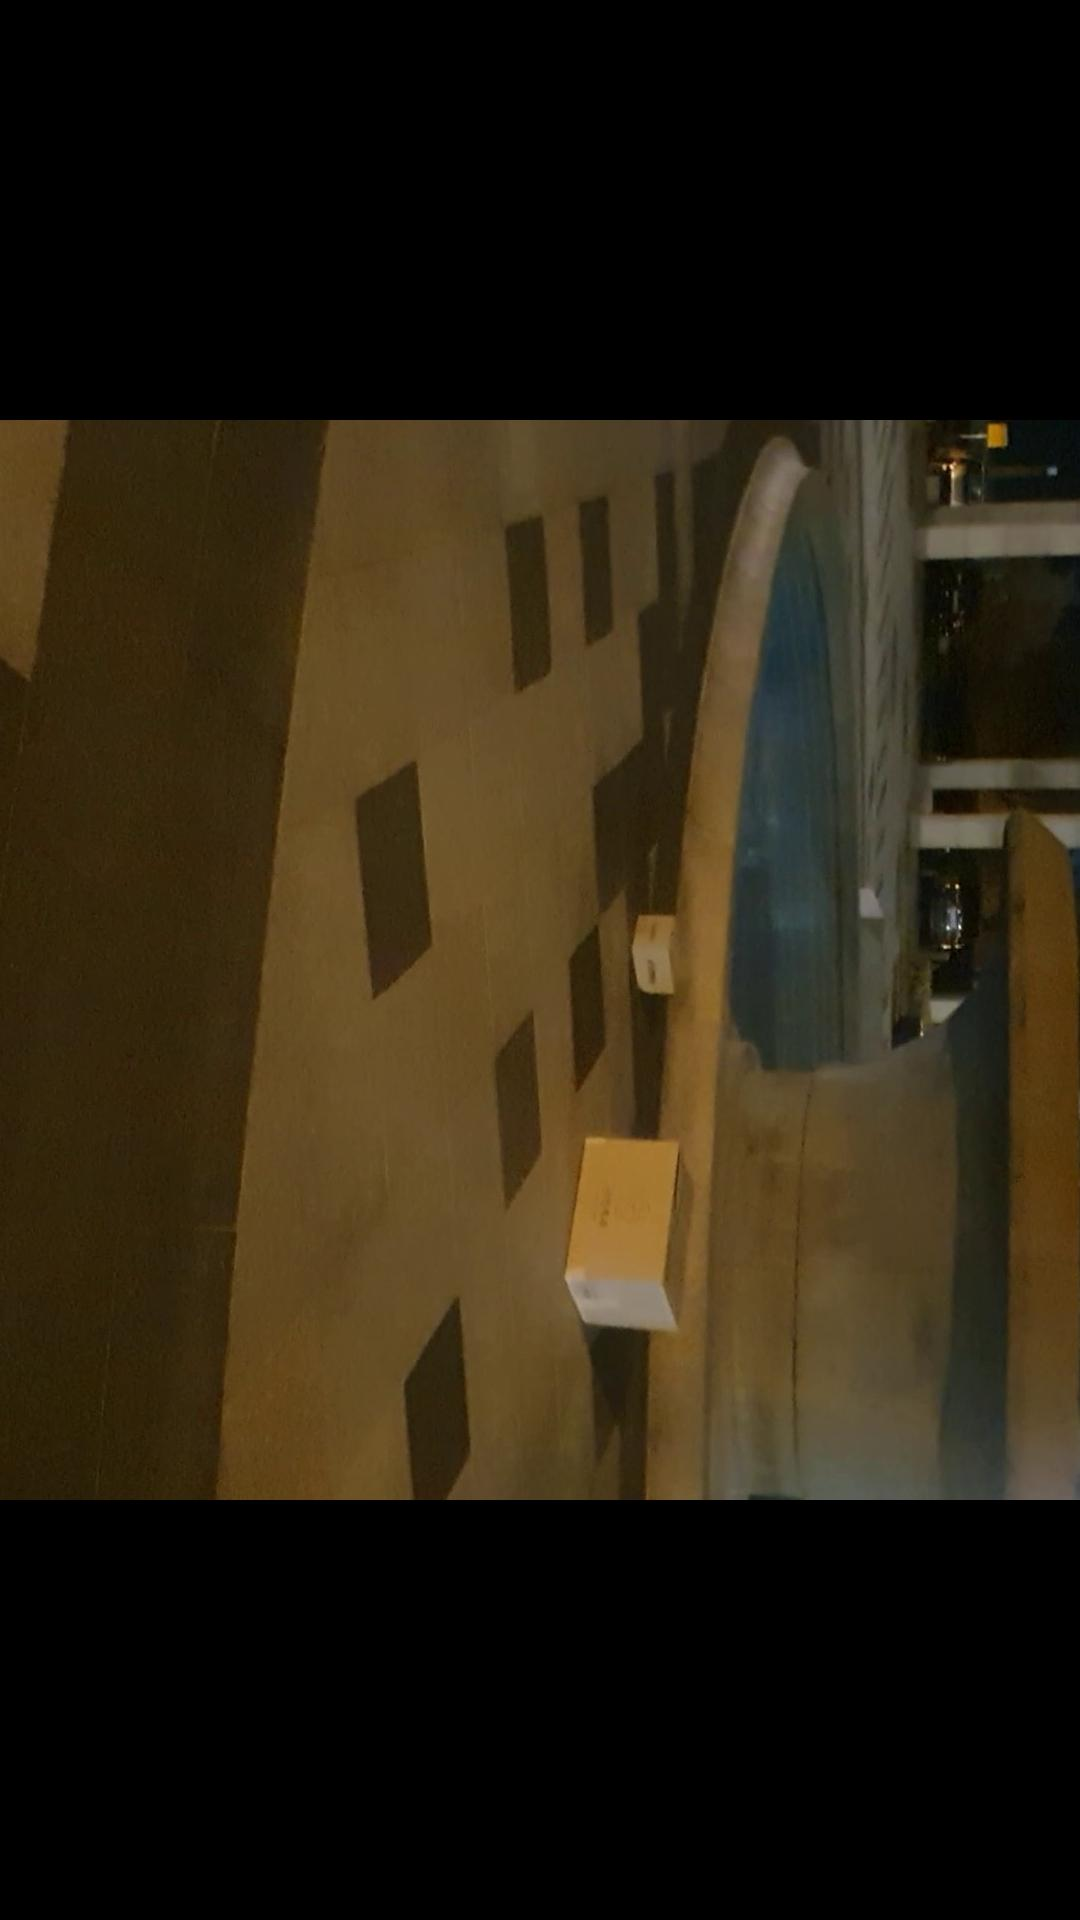Box: (556, 1113, 707, 1349), (630, 901, 707, 1005)
